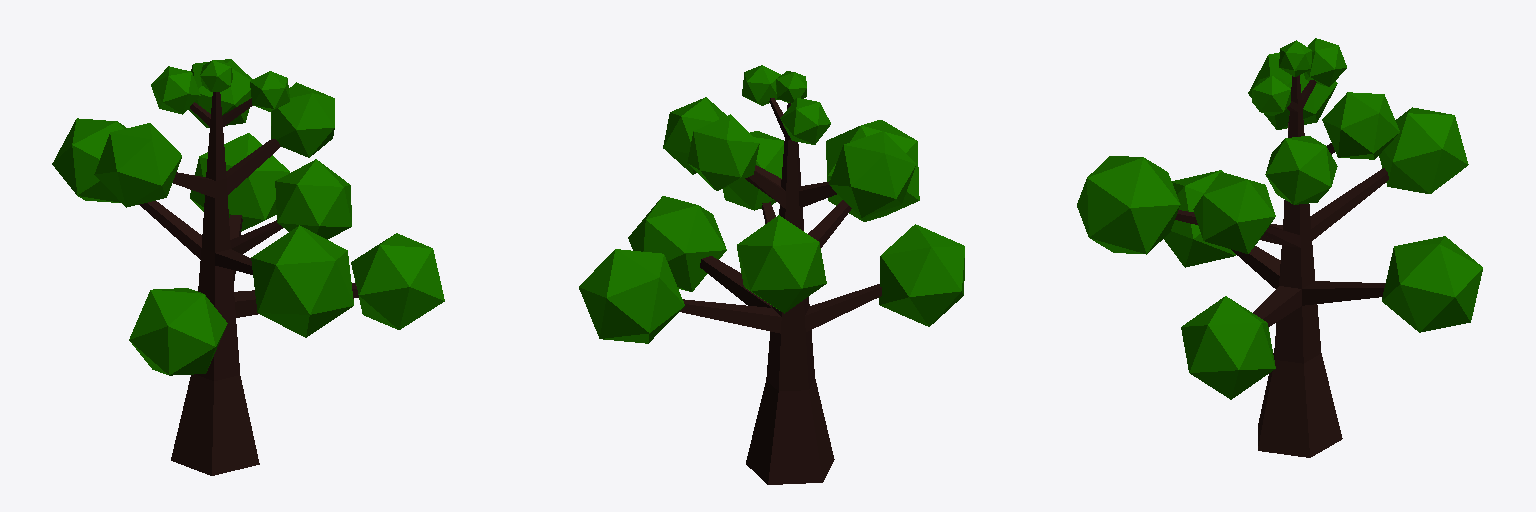
The model's file is tree.obj.
3 renders of one model, left to right at view 1: azimuth 30°, elevation 25°; view 2: azimuth 150°, elevation 25°; view 3: azimuth 270°, elevation 25°, orthographic.
Visible parts, largest first — view 1: trunk_Circle.001, Icosphere.023, Icosphere.017, Icosphere.021, Icosphere.016, Icosphere.012, Icosphere.022, Icosphere.015, Icosphere.018, Icosphere.013, Icosphere.019, Icosphere.020 (+1 smaller); view 2: trunk_Circle.001, Icosphere.022, Icosphere.017, Icosphere.018, Icosphere.021, Icosphere.016, Icosphere.013, Icosphere.023, Icosphere.015, Icosphere.012, Icosphere.019, Icosphere.020 (+1 smaller); view 3: trunk_Circle.001, Icosphere.023, Icosphere.022, Icosphere.021, Icosphere.018, Icosphere.012, Icosphere.013, Icosphere.015, Icosphere.017, Icosphere.016, Icosphere.019, Icosphere.020 (+1 smaller).
Boxes of the visible parts, box(x1,y1,x2,y2) form: trunk_Circle.001: box(139, 92, 358, 475); Icosphere.023: box(251, 225, 353, 337); Icosphere.017: box(129, 288, 227, 375); Icosphere.021: box(351, 233, 444, 329); Icosphere.016: box(94, 123, 181, 207); Icosphere.012: box(275, 159, 351, 239); Icosphere.022: box(190, 133, 289, 231); Icosphere.015: box(271, 82, 334, 157); Icosphere.018: box(52, 118, 126, 202); Icosphere.013: box(188, 59, 252, 127); Icosphere.019: box(151, 66, 200, 114); Icosphere.020: box(250, 71, 289, 111); trunk_Circle.001: box(680, 98, 881, 484); Icosphere.022: box(579, 249, 684, 343); Icosphere.017: box(879, 224, 964, 326); Icosphere.018: box(737, 215, 826, 313); Icosphere.021: box(628, 196, 726, 291); Icosphere.016: box(829, 131, 915, 217); Icosphere.013: box(687, 114, 759, 190); Icosphere.023: box(826, 120, 919, 221); Icosphere.015: box(663, 97, 726, 174); Icosphere.012: box(723, 131, 783, 210); Icosphere.019: box(780, 98, 830, 144); Icosphere.020: box(742, 65, 780, 105); trunk_Circle.001: box(1175, 75, 1388, 457); Icosphere.023: box(1077, 156, 1180, 254); Icosphere.022: box(1382, 236, 1482, 332); Icosphere.021: box(1181, 296, 1275, 399); Icosphere.018: box(1379, 107, 1468, 193); Icosphere.012: box(1193, 172, 1275, 253); Icosphere.013: box(1322, 92, 1399, 159); Icosphere.015: box(1265, 136, 1337, 204); Icosphere.017: box(1164, 170, 1235, 267); Icosphere.016: box(1248, 52, 1337, 129); Icosphere.019: box(1304, 38, 1346, 86); Icosphere.020: box(1252, 75, 1290, 115).
Size of the model in its own units: 5.18 by 6.12 by 5.69.